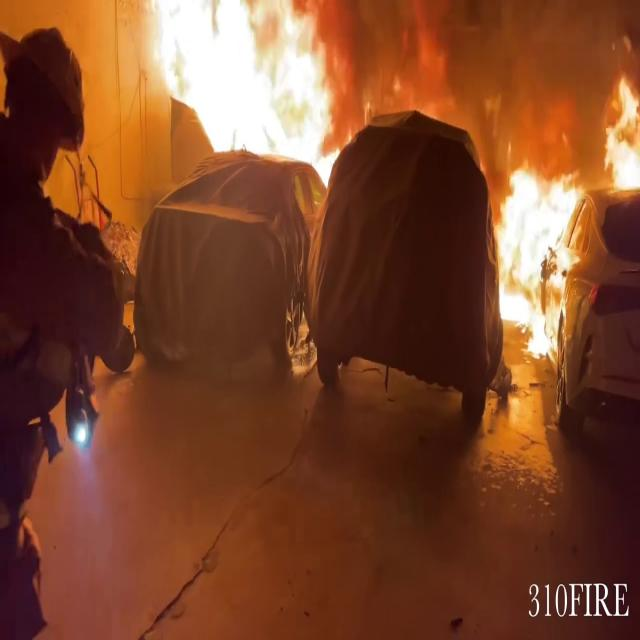Fire: (146, 0, 346, 196), (490, 152, 584, 362), (599, 68, 640, 198)
